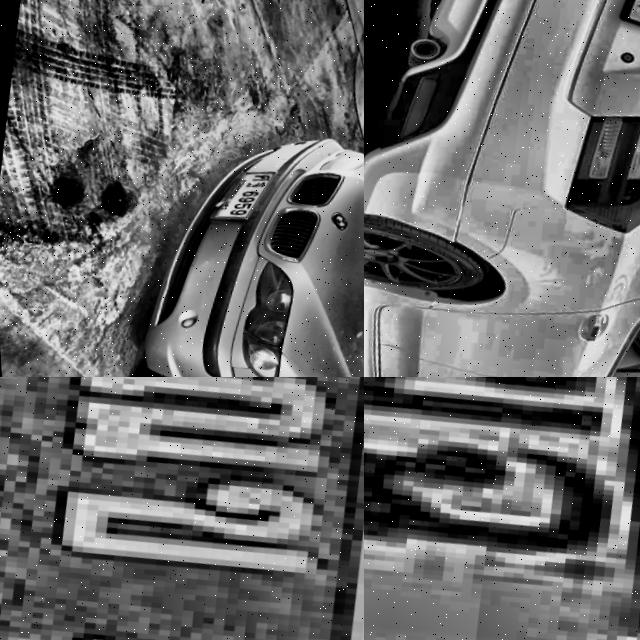license-plate: (0, 377, 364, 640), (364, 377, 640, 640), (197, 163, 276, 235)
